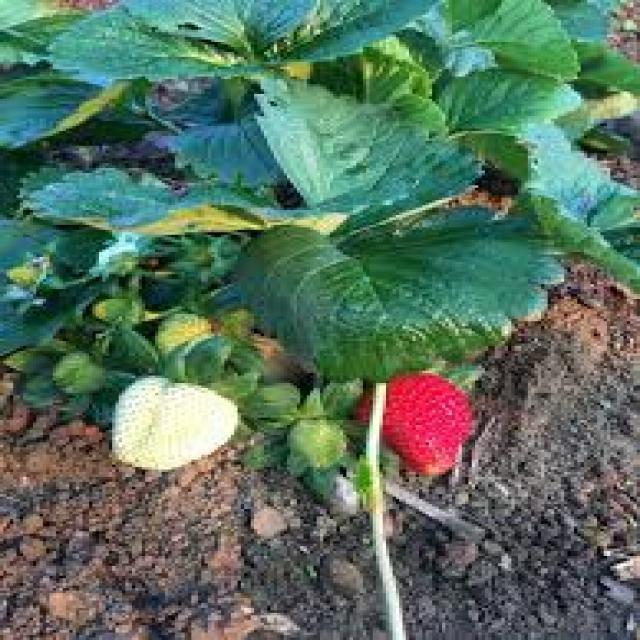Fruta sana: (359, 382, 467, 484)
